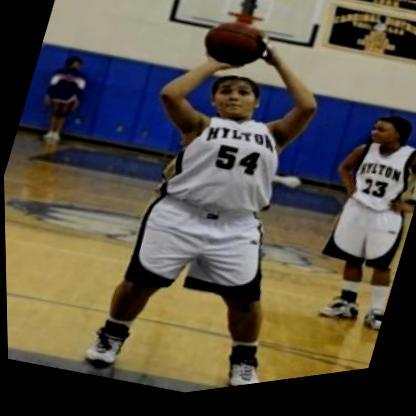basketball: (193, 9, 283, 92)
